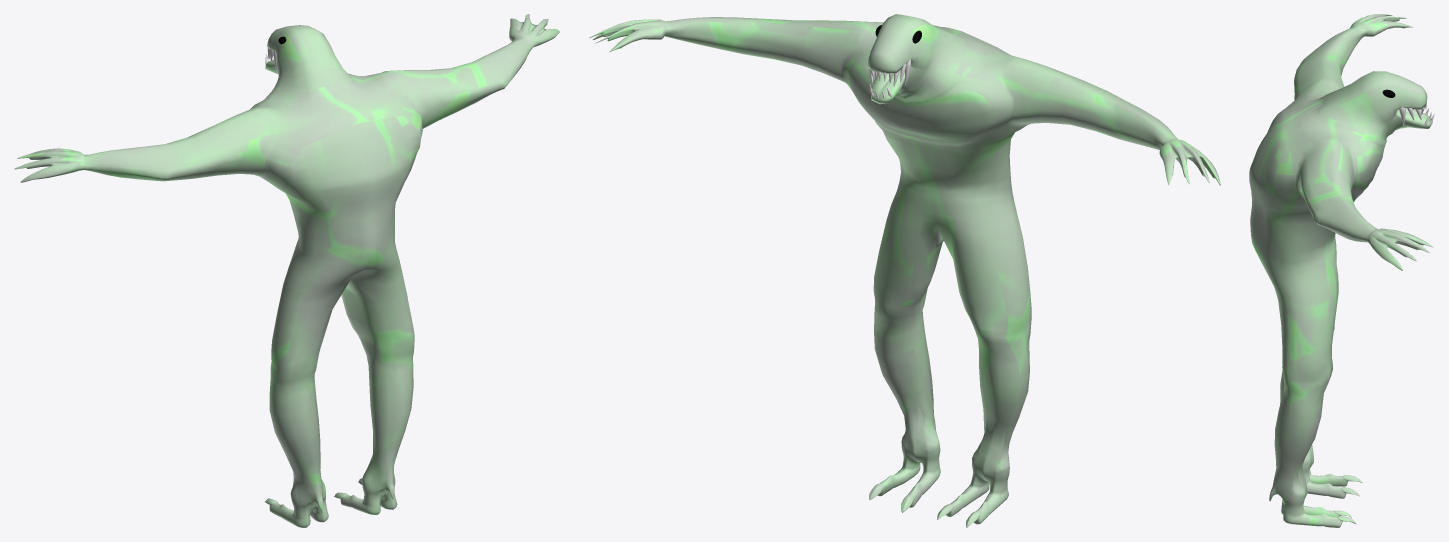
File: Berserkeraranar.0002.obj
3 renders of one model, left to right at view 1: azimuth 30°, elevation 25°; view 2: azimuth 150°, elevation 25°; view 3: azimuth 270°, elevation 25°, orthographic. The views are drawn at different scales.
Visible parts, largest first — view 1: polySurface27; view 2: polySurface27; view 3: polySurface27.
Part boxes in pixels (box(x1,y1,x2,y2)): polySurface27: box(14, 14, 559, 527); polySurface27: box(589, 14, 1220, 527); polySurface27: box(1249, 14, 1434, 527).
Bounding box in the file's own units: 30.13 × 24.1 × 9.26.
Materials: 1 (1 with a texture image).
